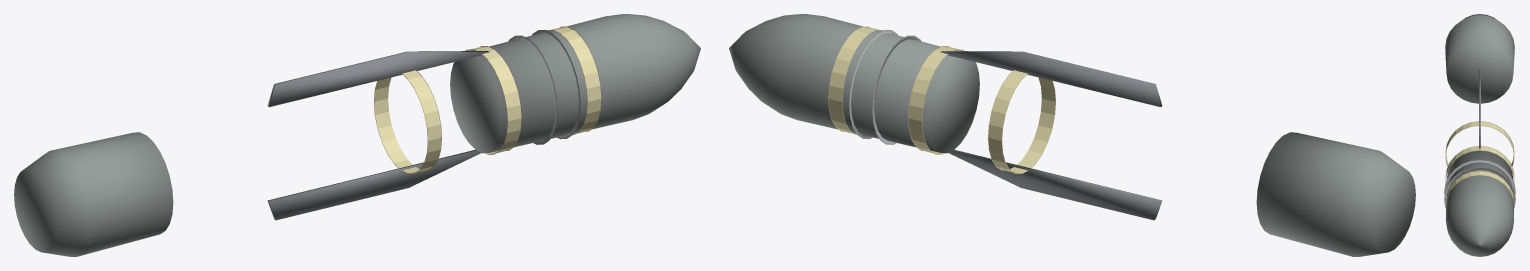
The model's file is UK_SLBM_Polaris_A3TK_LOD1.fbx.
3 views of the same model, side by side, from view 1: azimuth 30°, elevation 25°; view 2: azimuth 150°, elevation 25°; view 3: azimuth 270°, elevation 25° (orthographic). The views are drawn at different scales.
Parts seen in each view (by area): view 1: WPN_UK_SLBM_Polaris_A3TK_LOD1_Body, WPN_UK_SLBM_Polaris_A3TK_LOD1_Tail, WPN_UK_SLBM_Polaris_A3TK_LOD1_Detail, WPN_UK_SLBM_Polaris_A3TK_LOD1_Marking; view 2: WPN_UK_SLBM_Polaris_A3TK_LOD1_Body, WPN_UK_SLBM_Polaris_A3TK_LOD1_Tail, WPN_UK_SLBM_Polaris_A3TK_LOD1_Detail, WPN_UK_SLBM_Polaris_A3TK_LOD1_Marking; view 3: WPN_UK_SLBM_Polaris_A3TK_LOD1_Body, WPN_UK_SLBM_Polaris_A3TK_LOD1_Tail, WPN_UK_SLBM_Polaris_A3TK_LOD1_Marking, WPN_UK_SLBM_Polaris_A3TK_LOD1_Detail.
Boxes of the visible parts, bbox=[...] form: WPN_UK_SLBM_Polaris_A3TK_LOD1_Body: bbox=[450, 14, 700, 153]; WPN_UK_SLBM_Polaris_A3TK_LOD1_Tail: bbox=[14, 132, 173, 256]; WPN_UK_SLBM_Polaris_A3TK_LOD1_Detail: bbox=[267, 30, 580, 220]; WPN_UK_SLBM_Polaris_A3TK_LOD1_Marking: bbox=[374, 26, 601, 173]; WPN_UK_SLBM_Polaris_A3TK_LOD1_Body: bbox=[729, 14, 979, 153]; WPN_UK_SLBM_Polaris_A3TK_LOD1_Tail: bbox=[1256, 132, 1415, 256]; WPN_UK_SLBM_Polaris_A3TK_LOD1_Detail: bbox=[849, 30, 1162, 220]; WPN_UK_SLBM_Polaris_A3TK_LOD1_Marking: bbox=[828, 26, 1055, 173]; WPN_UK_SLBM_Polaris_A3TK_LOD1_Body: bbox=[1445, 150, 1514, 256]; WPN_UK_SLBM_Polaris_A3TK_LOD1_Tail: bbox=[1445, 14, 1514, 103]; WPN_UK_SLBM_Polaris_A3TK_LOD1_Marking: bbox=[1445, 121, 1514, 208]; WPN_UK_SLBM_Polaris_A3TK_LOD1_Detail: bbox=[1444, 70, 1515, 207].
Size of the model in its own units: 9.8 by 1.44 by 1.9.
